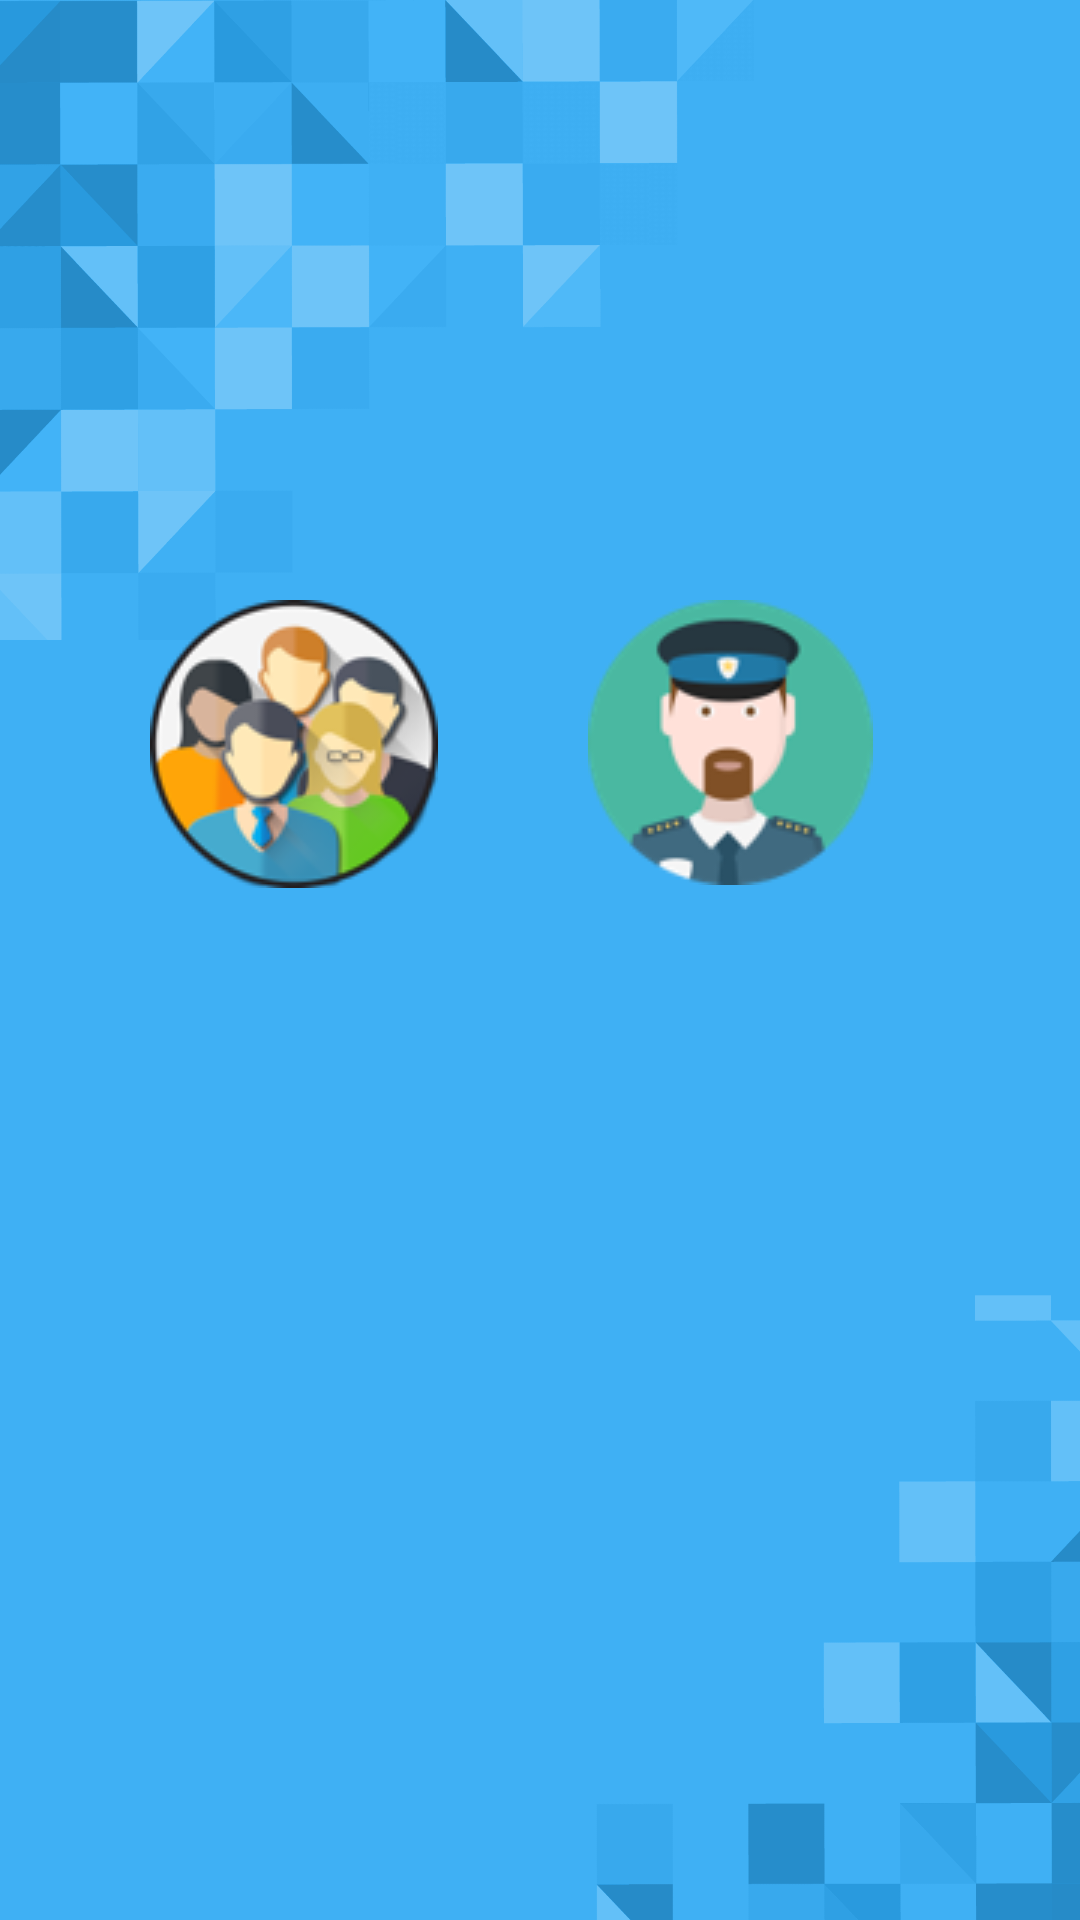

Screen size 1080 × 1920. Icon name, then its box in pixels as bbox(x1, y1, x2, y2):
police: bbox(588, 600, 873, 885)
user: bbox(150, 600, 438, 888)
